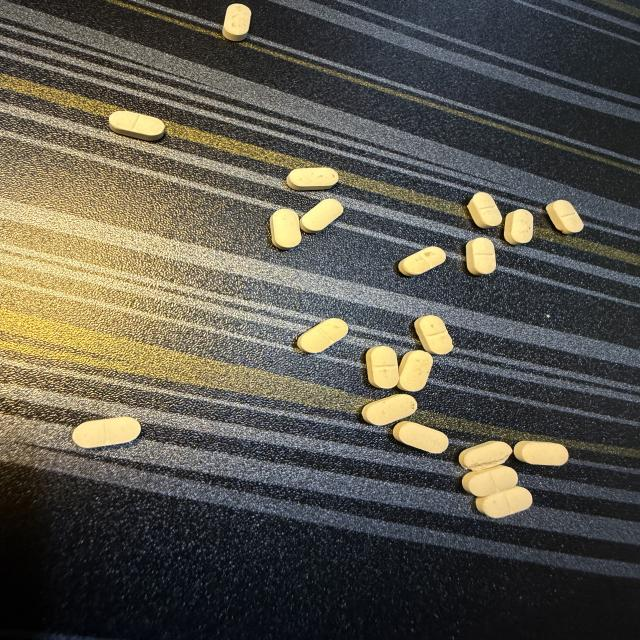pill: (73, 417, 140, 448), (476, 486, 532, 518), (297, 318, 348, 353), (393, 421, 448, 453), (362, 394, 417, 425), (463, 466, 518, 496), (109, 111, 164, 140), (300, 198, 344, 234), (459, 441, 512, 470), (398, 350, 433, 392), (415, 316, 453, 354), (366, 346, 398, 388), (399, 247, 445, 276), (514, 441, 568, 465), (546, 200, 583, 234), (270, 209, 301, 249), (468, 193, 502, 228), (287, 168, 338, 190), (466, 238, 496, 275), (223, 4, 251, 41), (505, 209, 533, 245)
